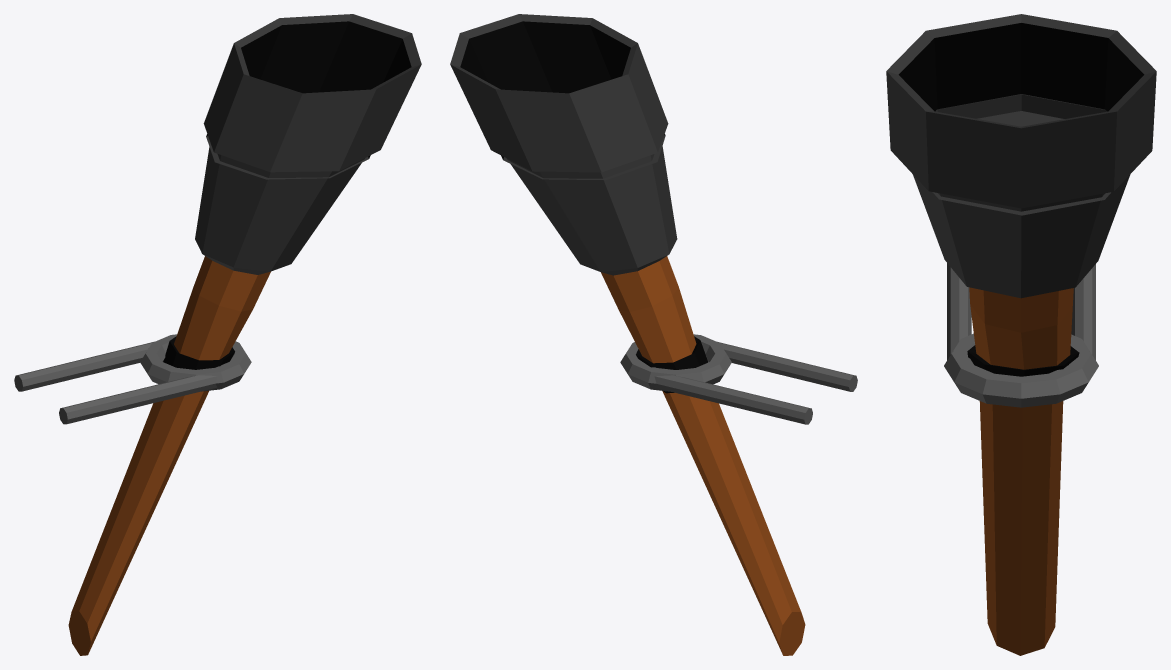
Rendered from torch.fbx.
The picture shows the model from 3 angles, left to right: view 1: azimuth 30°, elevation 25°; view 2: azimuth 150°, elevation 25°; view 3: azimuth 270°, elevation 25°; orthographic projection. The views are drawn at different scales.
Visible parts, largest first — view 1: Cylinder; view 2: Cylinder; view 3: Cylinder.
Boxes of the visible parts, <box> form: Cylinder: <box>14,14,421,655</box>; Cylinder: <box>450,14,857,655</box>; Cylinder: <box>886,14,1156,655</box>.
Bounding box in the file's own units: 958 × 1336 × 435.
